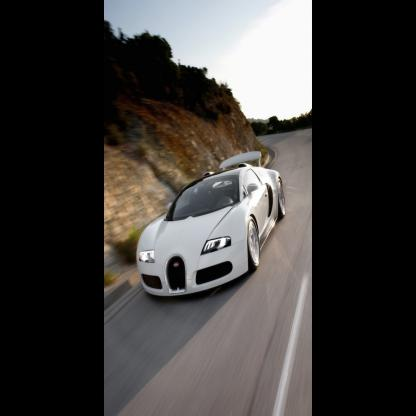Vehicle: (135, 162, 285, 304)
